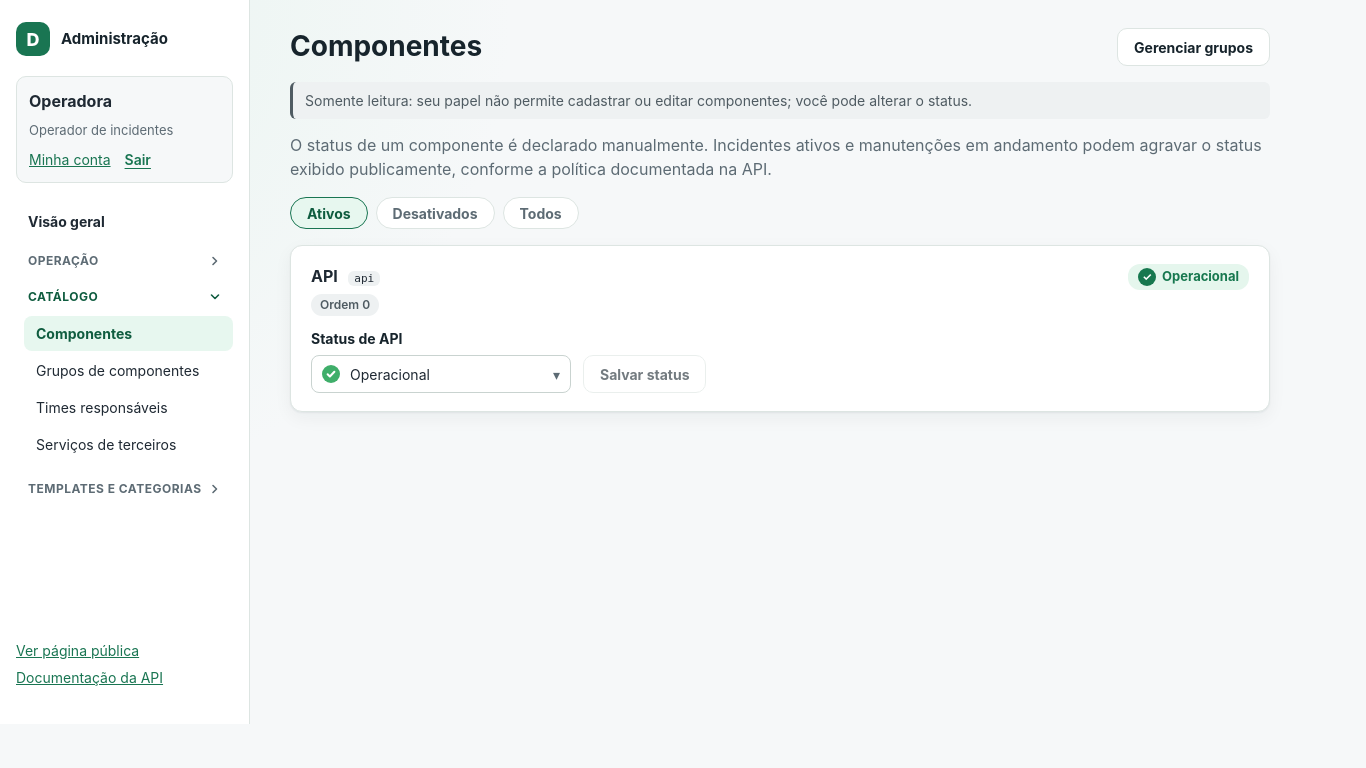
Test: admin area › shows only what the user's role allows
The image size is (1366, 768).
Expected: the text "api" is shown, [348,271,380,286]
Expected: the text "Somente leitura" is shown, [305,92,568,109]
Note: Status-only change is allowed.
Click the dropdown named "Status de API" at (390, 374), box [311,355,571,393]
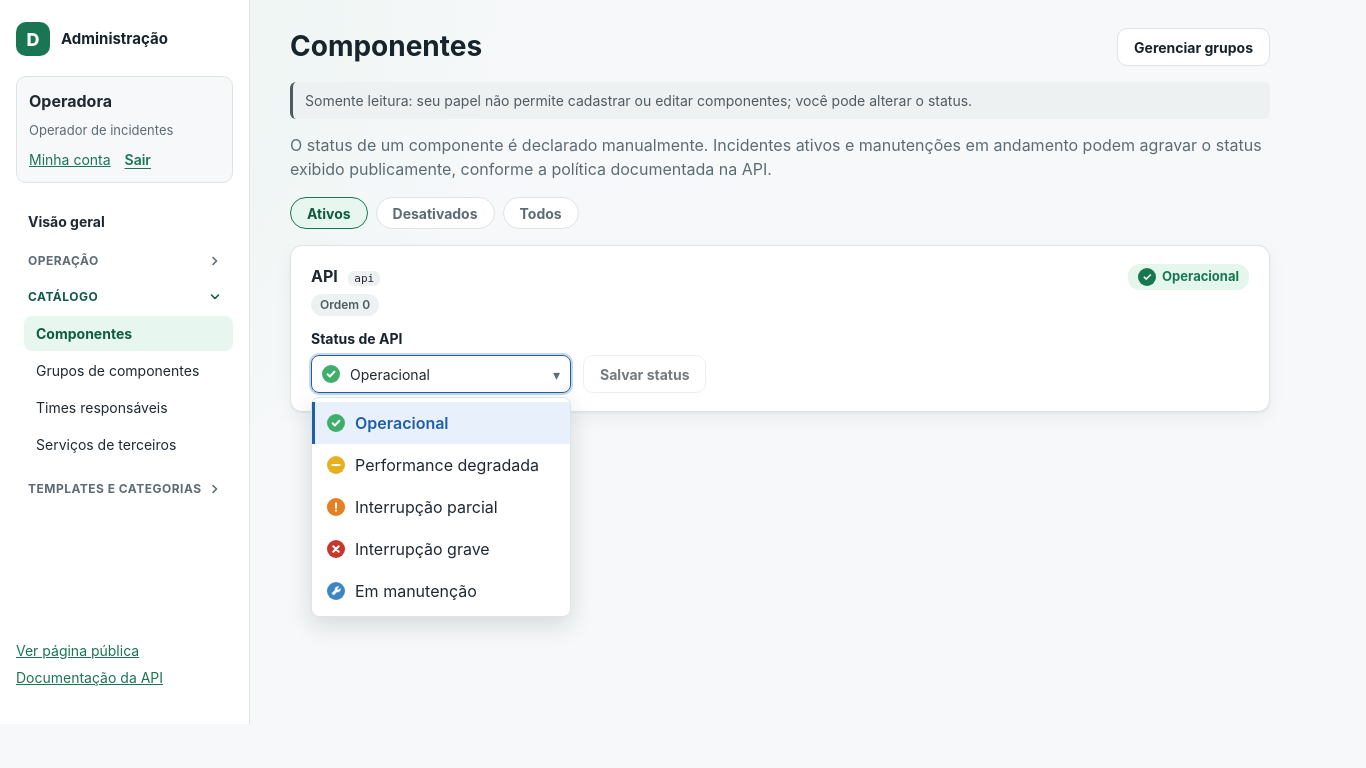
Click the option "Interrupção parcial" at (412, 507), box [327,497,498,517]
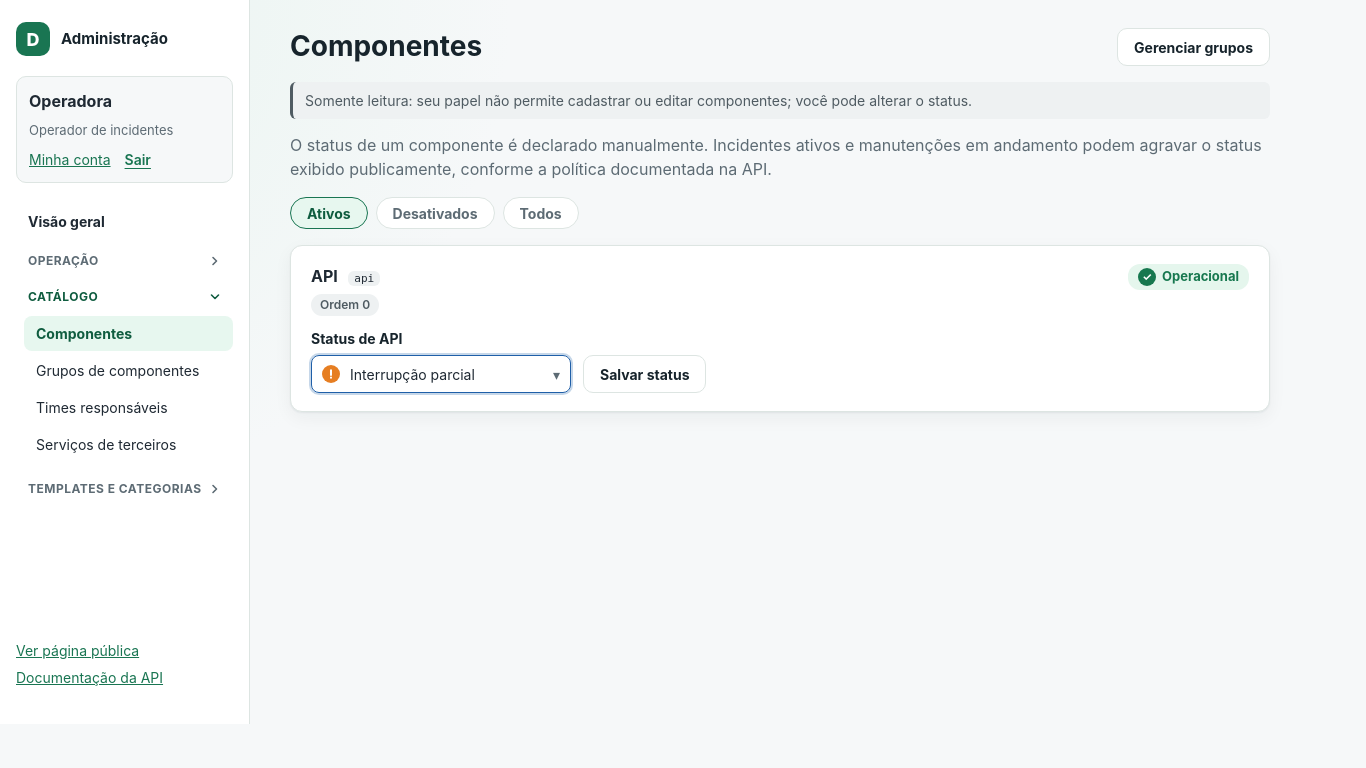
Click the button "Salvar status" at (645, 374), box [583,355,706,393]
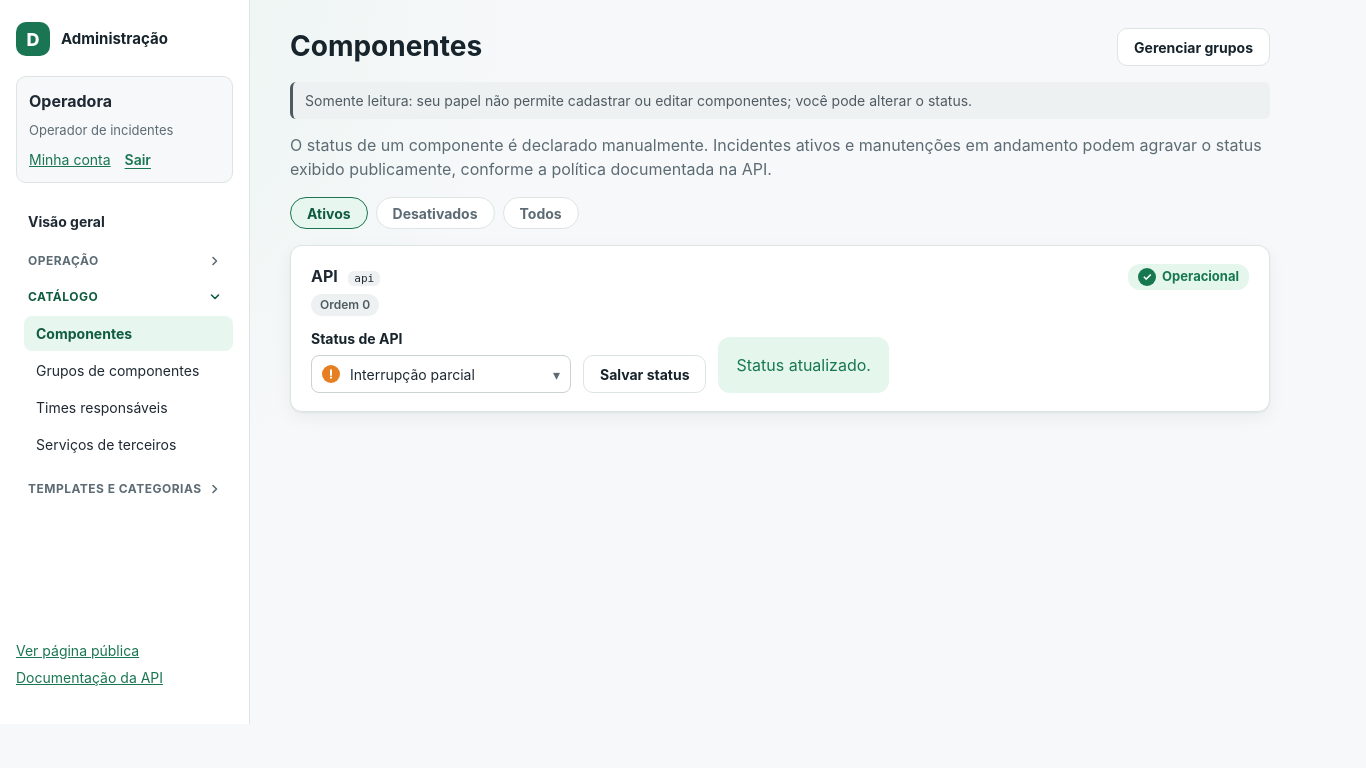
Expected: the text "Status atualizado." is shown, [718,337,889,393]
